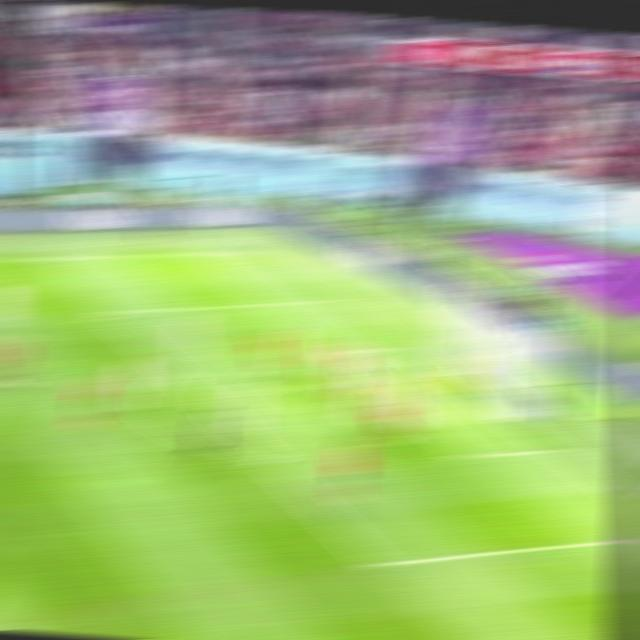bigarea_bottom_inner: (363, 551, 400, 576)
bigarea_top_inner: (93, 301, 127, 323)
bigarea_top_outter: (314, 290, 347, 308)
bottom_arc_area_intersection: (251, 445, 286, 470)
corner: (239, 243, 274, 258)
smallarea_bottom_inner: (452, 441, 492, 469)
smallarea_bottom_outter: (539, 436, 575, 461)
smallarea_top_inner: (315, 344, 346, 360)
smallarea_top_outter: (386, 336, 420, 356)
top_arc_area_intersection: (158, 361, 192, 380)
